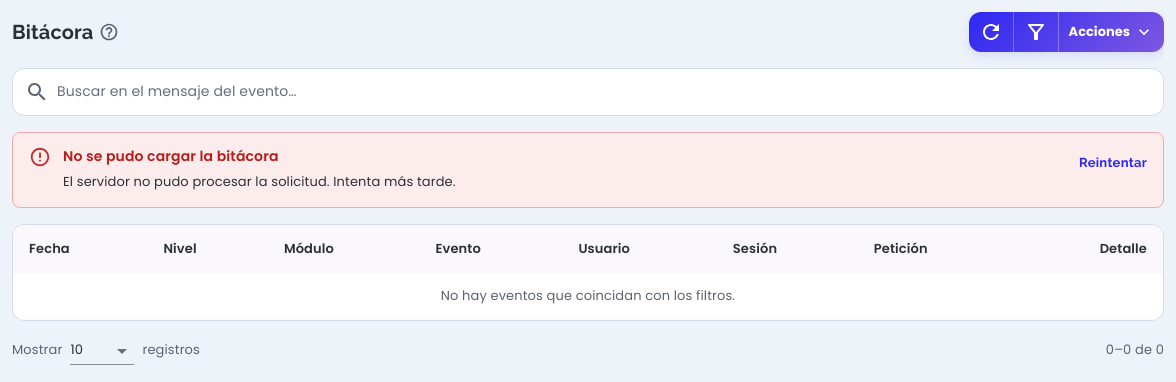
it: <LogsPage /> › muestra el error de carga y permite reintentar
The image size is (1176, 382).
Expected: the text "No se pudo cargar la bitácora" is shown, 63,146 -> 278,166
Click the button "Reintentar".
click(1113, 163)  # box 1071,143 -> 1155,183
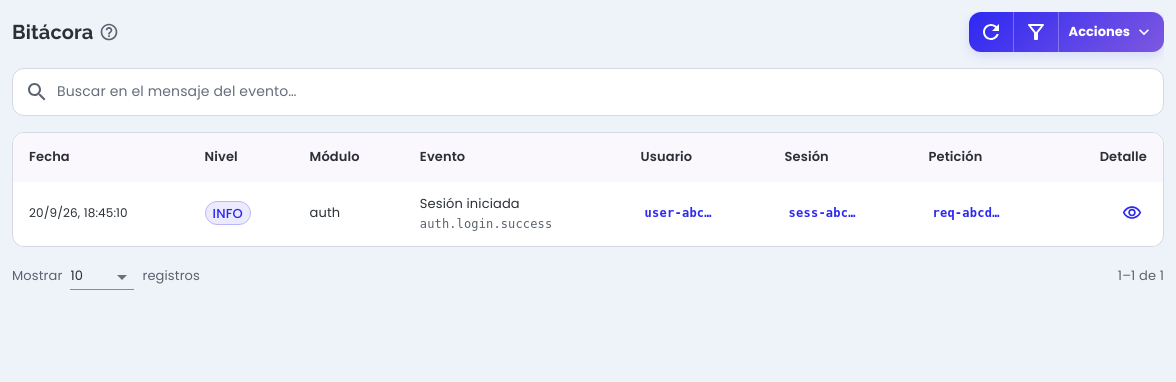
Expected: the row "Sesión iniciada" is shown, 13,182 -> 1163,245
